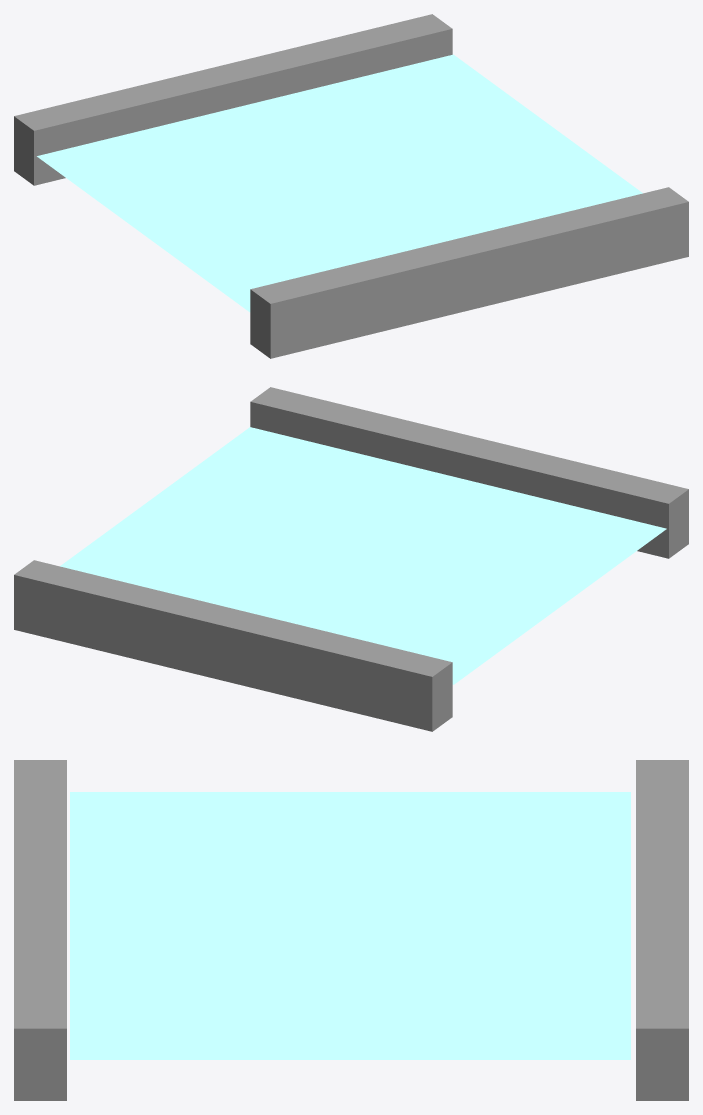
The picture shows the model from 3 angles, top to bottom: view 1: azimuth 30°, elevation 25°; view 2: azimuth 150°, elevation 25°; view 3: azimuth 270°, elevation 25°; orthographic projection. The views are drawn at different scales.
Parts seen in each view (by area): view 1: Forcefield, Platform2, Platform1; view 2: Forcefield, Platform1, Platform2; view 3: Forcefield, Platform1, Platform2.
Boxes of the visible parts, <box> form: Forcefield: <box>37,54,642,312</box>; Platform2: <box>250,187,688,358</box>; Platform1: <box>14,14,452,185</box>; Forcefield: <box>60,427,666,684</box>; Platform1: <box>14,560,452,731</box>; Platform2: <box>250,387,688,558</box>; Forcefield: <box>70,792,630,1059</box>; Platform1: <box>636,760,688,1100</box>; Platform2: <box>14,760,66,1100</box>.
Size of the model in its own units: 5.37 by 0.6733 by 5.7.
